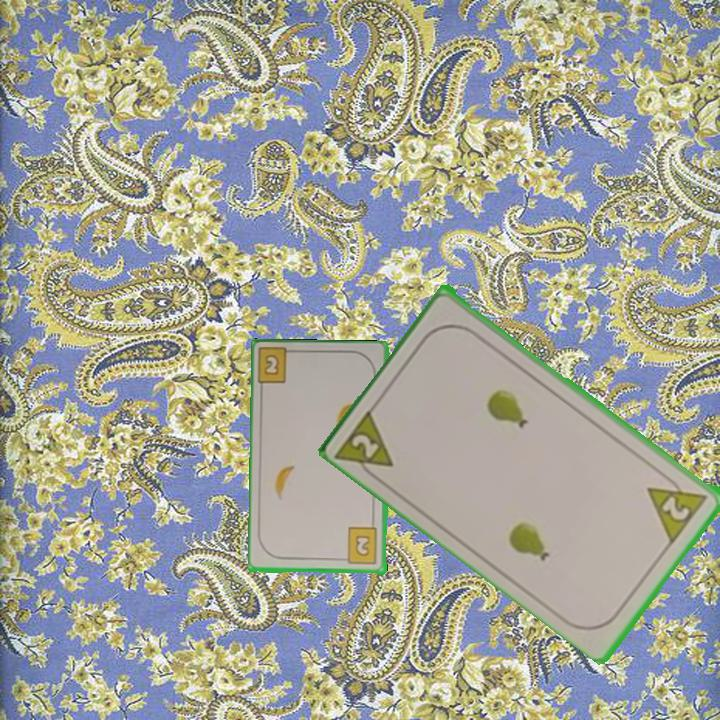2b: (255, 346, 300, 388), (338, 525, 380, 567)
2p: (333, 403, 398, 486), (644, 469, 711, 545)
